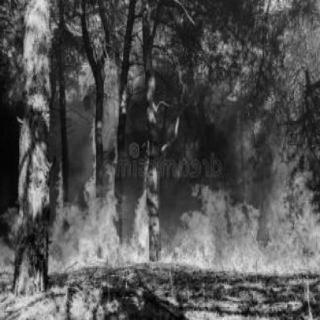Fire: (161, 163, 320, 271), (47, 158, 149, 276), (2, 200, 18, 273)
Smoke: (120, 102, 224, 160)
